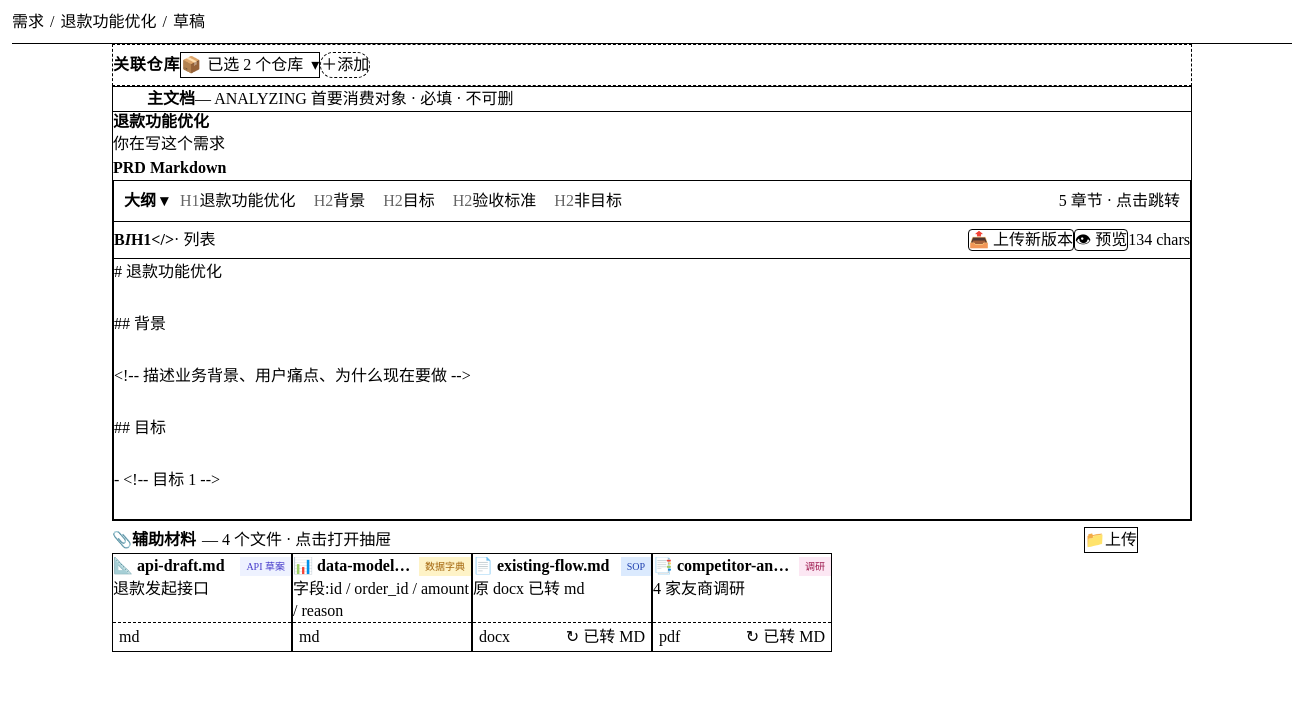
DraftingZone · 仓库底部条 + 软警告 (issue 08) › 验收 #1+#2:repo-bar 渲染于工作区顶部,包含 chips / 软警告区 / 追加按钮(启动按钮已移除)
The image size is (1292, 720).
Check: the element with test id "drafting-repo-bar" is shown, box x1=112 y1=44 x2=1192 y2=86
Check: the text "关联仓库" is shown, box x1=113 y1=53 x2=180 y2=77
点击 ▾ 摘要 → 展开态
What coordinates should you click on to do the following:
click the button with test id "drafting-repo-bar-summary"
I would click on:
 (250, 65)
Its box is x1=180 y1=52 x2=320 y2=78.
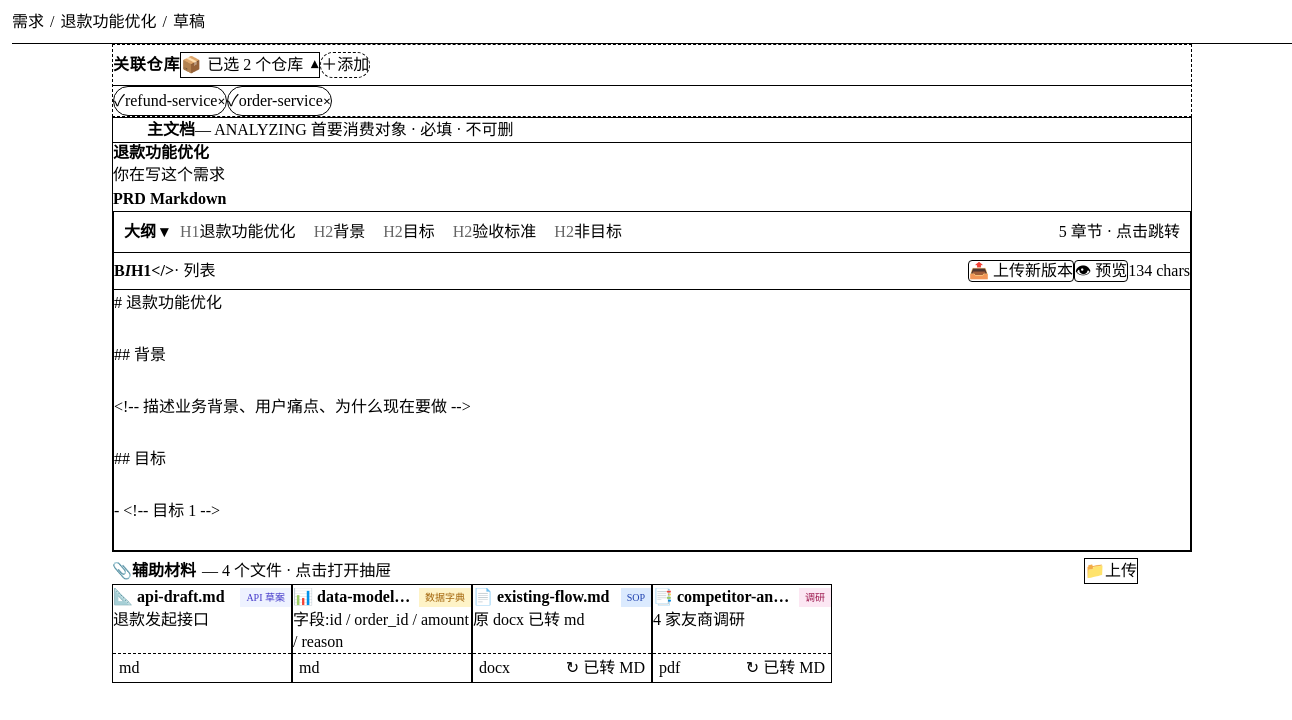
Check: the element with test id "drafting-repo-bar-chips" is shown, box x1=113 y1=85 x2=1191 y2=116
Check: the element with test id "drafting-repo-chip" is shown, box x1=113 y1=86 x2=227 y2=116
Check: the number of elements with test id "drafting-repo-chip" is 2, box x1=113 y1=86 x2=227 y2=116; x1=227 y1=86 x2=332 y2=116
